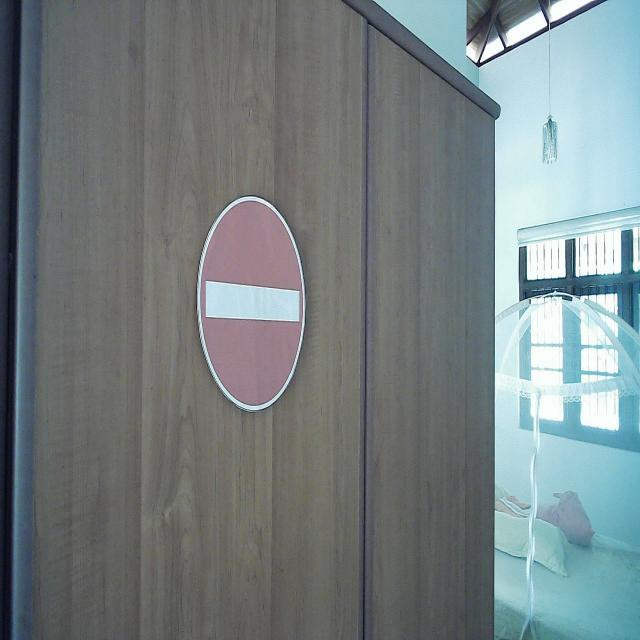no_entry: (196, 194, 306, 414)
